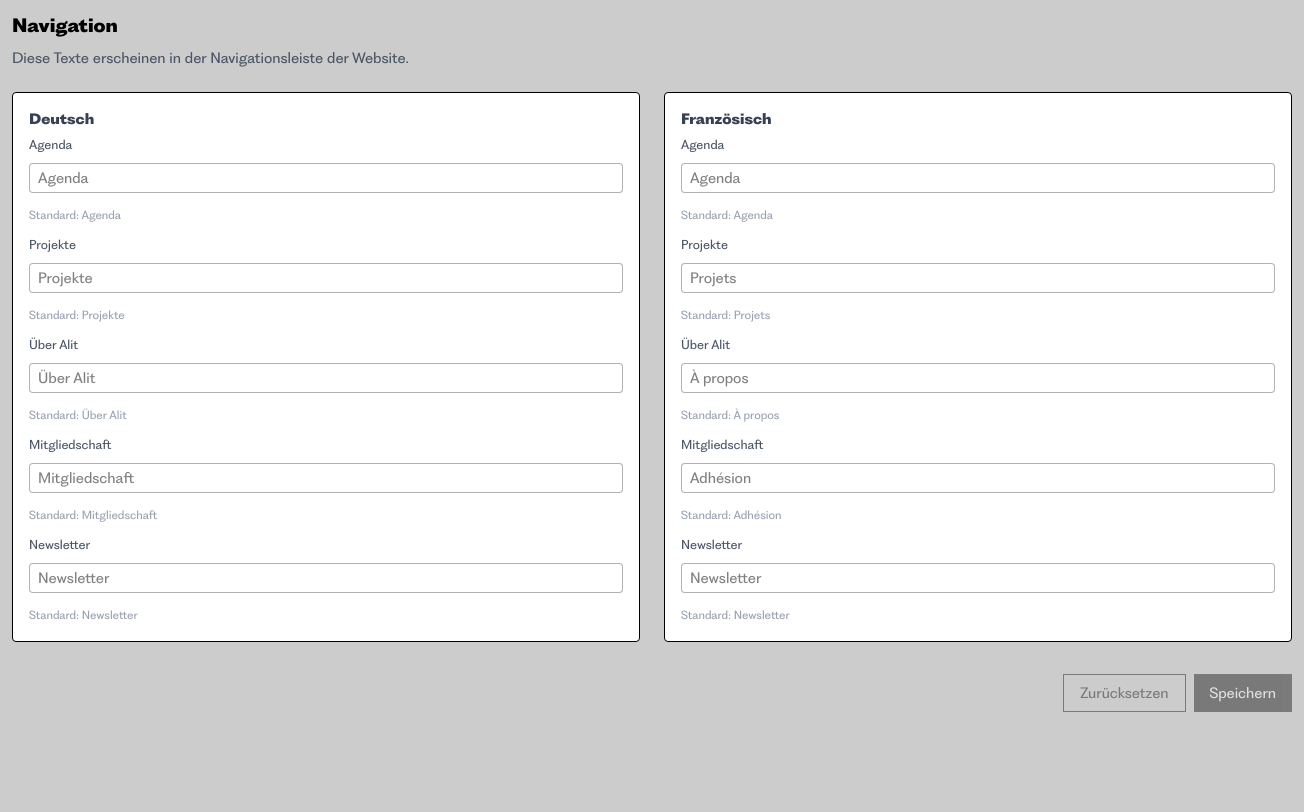
Scenario: NavLabelsSection › Save shows success toast + clears dirty
Step 1. Type "X" into the field with test id "nav-de-agenda" → x=326, y=178, box [29,163,623,193]
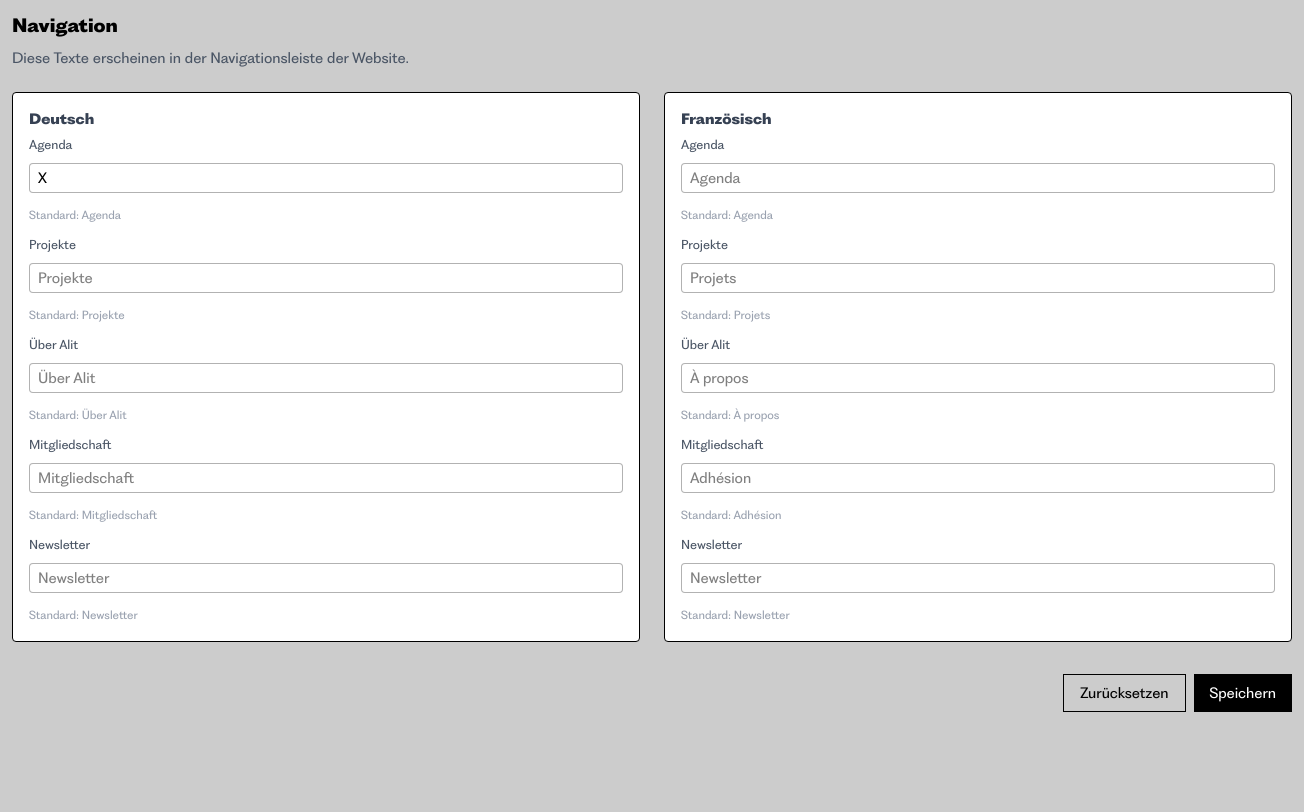
Step 2. Click the button with test id "nav-save" → x=1243, y=693, box [1194,674,1292,712]
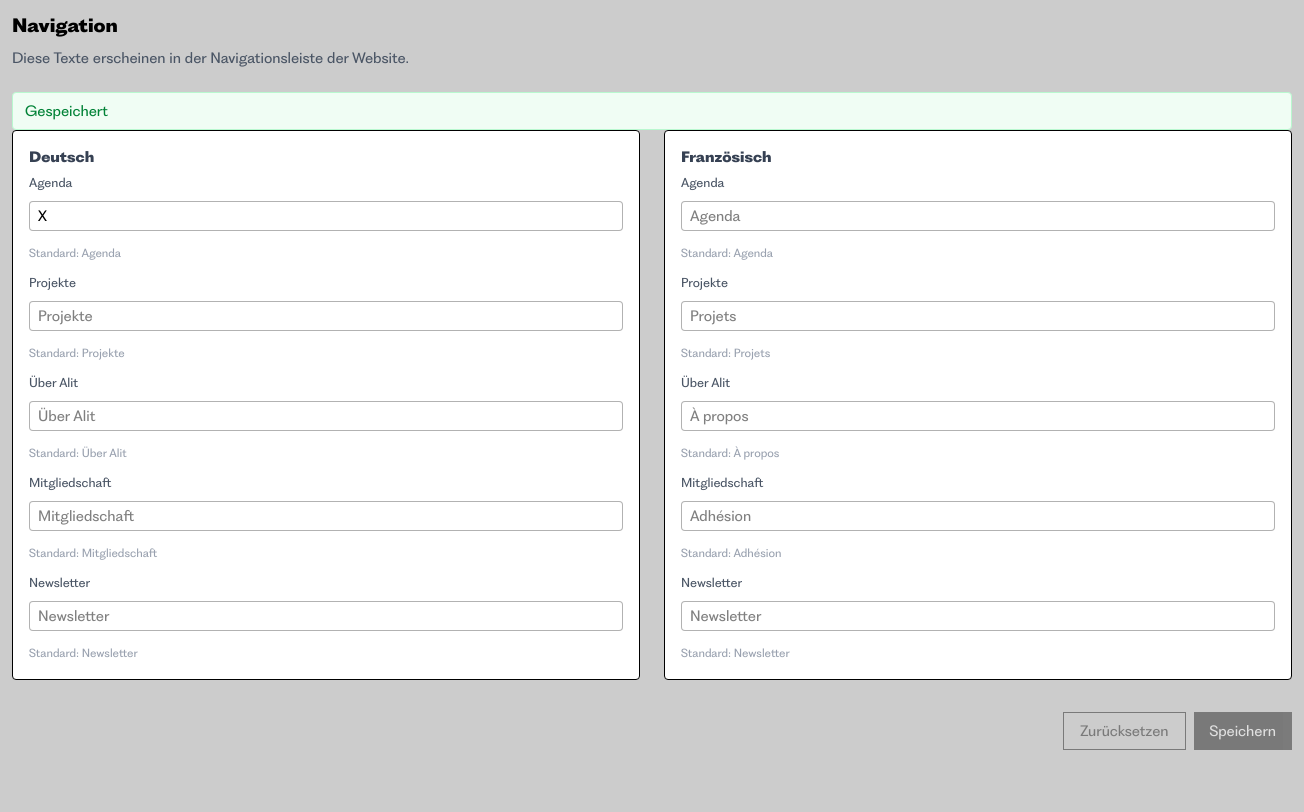
Check: the text "Gespeichert" is shown, box [12,92,1292,130]
Check: the button with test id "nav-save" is disabled, box [1194,712,1292,750]
